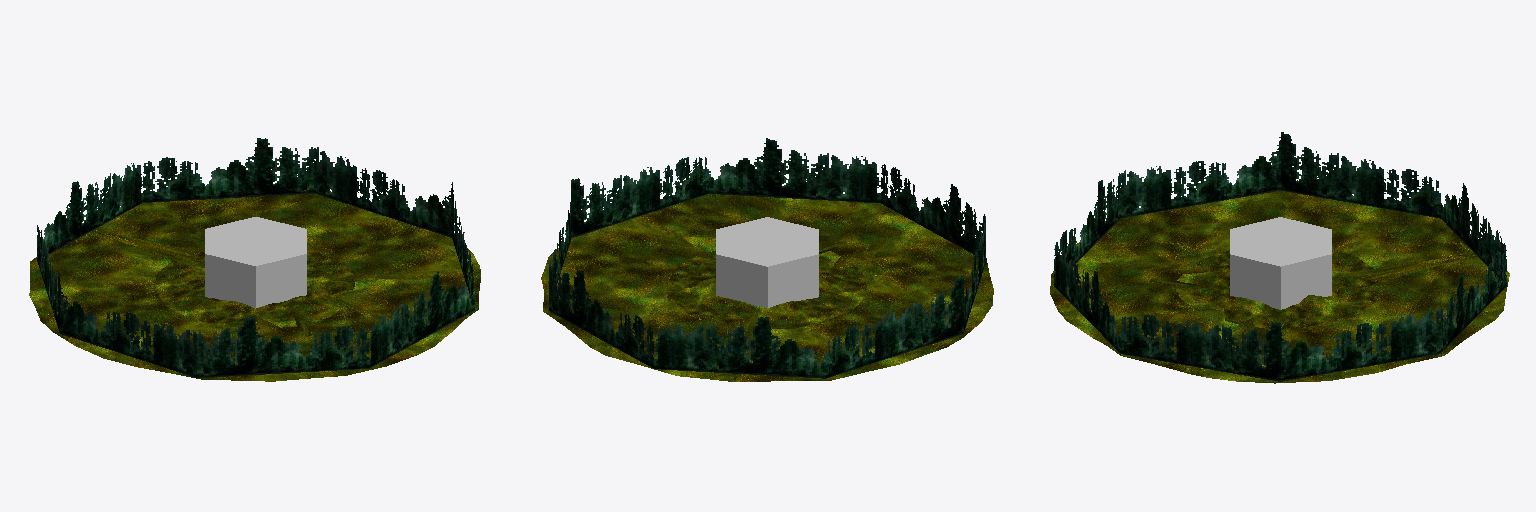
3 renders of one model, left to right at view 1: azimuth 30°, elevation 25°; view 2: azimuth 150°, elevation 25°; view 3: azimuth 270°, elevation 25°, orthographic.
Parts seen in each view (by area): view 1: LilyPad, LilyPadlineOfTrees, LilyPadCollisionBox; view 2: LilyPad, LilyPadlineOfTrees, LilyPadCollisionBox; view 3: LilyPad, LilyPadlineOfTrees, LilyPadCollisionBox.
Part boxes in pixels (left/top/right/bottom): LilyPad: left=29, top=193, right=480, bottom=381; LilyPadlineOfTrees: left=37, top=138, right=474, bottom=377; LilyPadCollisionBox: left=205, top=217, right=306, bottom=307; LilyPad: left=541, top=194, right=993, bottom=381; LilyPadlineOfTrees: left=549, top=138, right=985, bottom=378; LilyPadCollisionBox: left=716, top=217, right=818, bottom=307; LilyPad: left=1050, top=191, right=1509, bottom=383; LilyPadlineOfTrees: left=1054, top=132, right=1506, bottom=381; LilyPadCollisionBox: left=1230, top=217, right=1331, bottom=309.
Size of the model in its own units: 19548 by 2820 by 19514.
Materials: 10 (7 with a texture image).